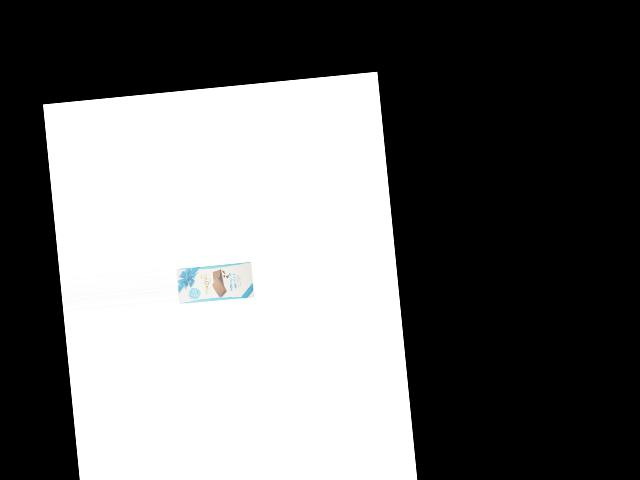chocolate: (174, 256, 256, 307)
